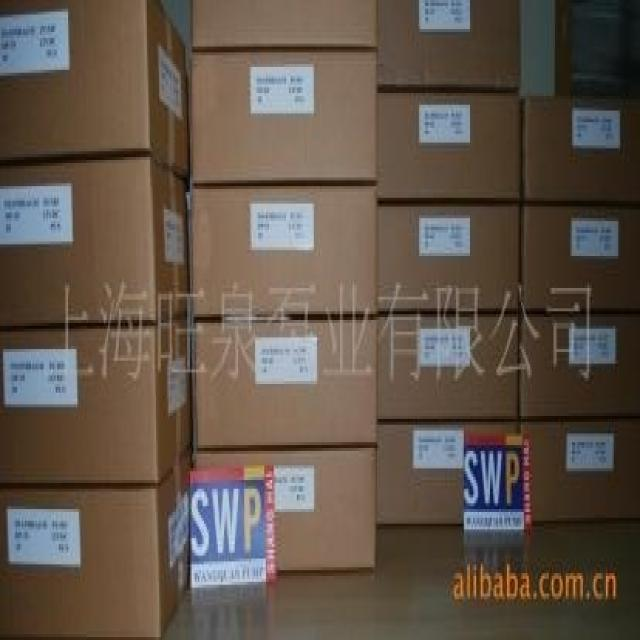box: (0, 445, 193, 640), (2, 0, 190, 183), (0, 151, 190, 329), (2, 314, 192, 489), (189, 186, 377, 326), (189, 49, 376, 189), (190, 317, 376, 448), (196, 448, 377, 570), (376, 90, 523, 207), (376, 204, 521, 317), (376, 419, 519, 527), (376, 314, 519, 422), (519, 90, 640, 204), (518, 204, 640, 314), (518, 416, 640, 524), (519, 314, 640, 422), (376, 3, 521, 93), (189, 3, 376, 52)
